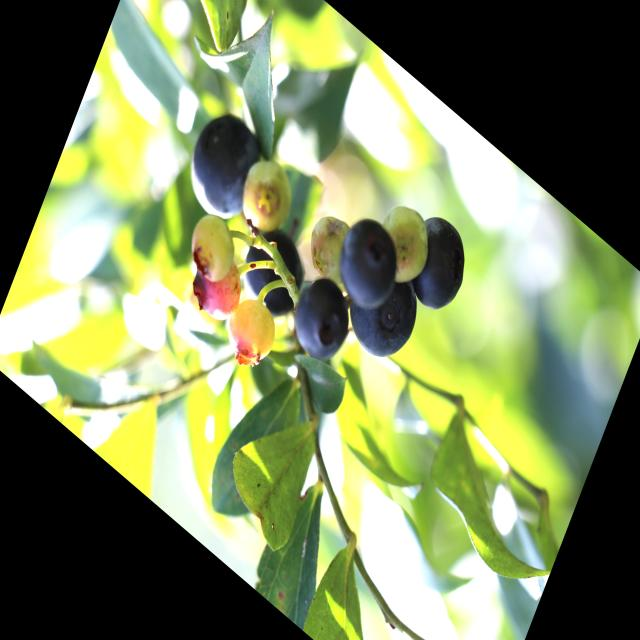blueberry: (176, 93, 276, 242), (342, 250, 427, 376), (234, 213, 316, 332), (396, 202, 475, 324), (328, 206, 404, 320), (285, 268, 360, 378)
blueberry-halfripe: (188, 242, 249, 333)
blueberry-unripe: (368, 191, 442, 298), (233, 145, 302, 250), (182, 200, 248, 295), (300, 200, 362, 299), (222, 284, 284, 378)
